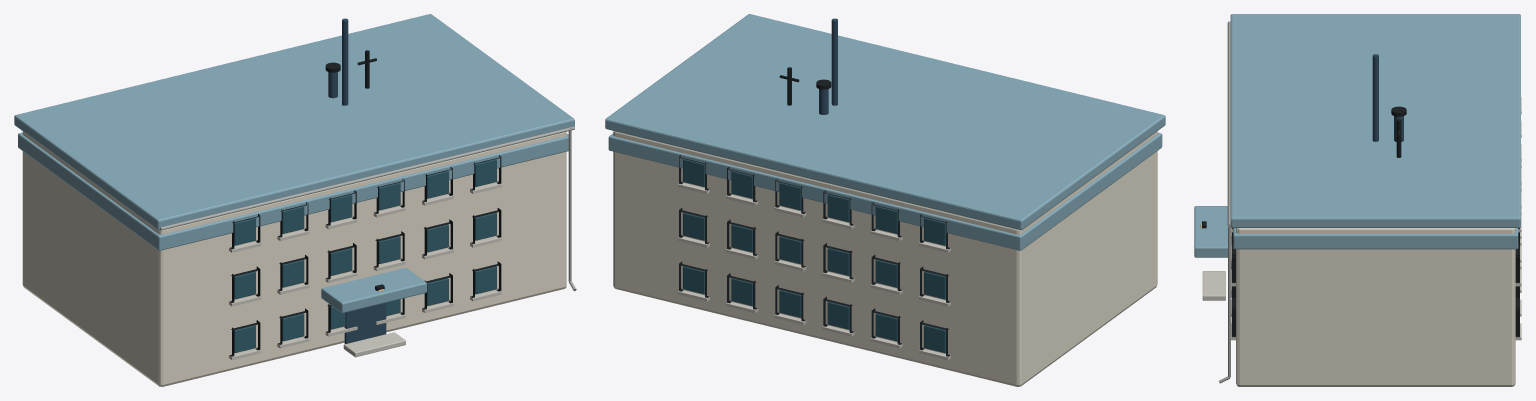
File: CIV_POLICE_3x2_002.glb
3 renders of one model, left to right at view 1: azimuth 30°, elevation 25°; view 2: azimuth 150°, elevation 25°; view 3: azimuth 270°, elevation 25°, orthographic.
Visible parts, largest first — view 1: CIV_POLICE_3x2_002_Visual; view 2: CIV_POLICE_3x2_002_Visual; view 3: CIV_POLICE_3x2_002_Visual.
Part boxes in pixels (x1=…): CIV_POLICE_3x2_002_Visual: x1=14, y1=14, x2=576, y2=386; CIV_POLICE_3x2_002_Visual: x1=605, y1=14, x2=1165, y2=386; CIV_POLICE_3x2_002_Visual: x1=1194, y1=14, x2=1521, y2=386.
Size of what is drawn, in the model's own units: 5.37 by 3.15 by 3.63.
